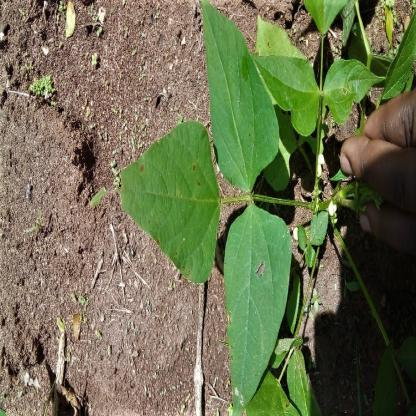Beans_Angular_LeafSpot: (116, 119, 209, 290), (219, 212, 294, 416)
